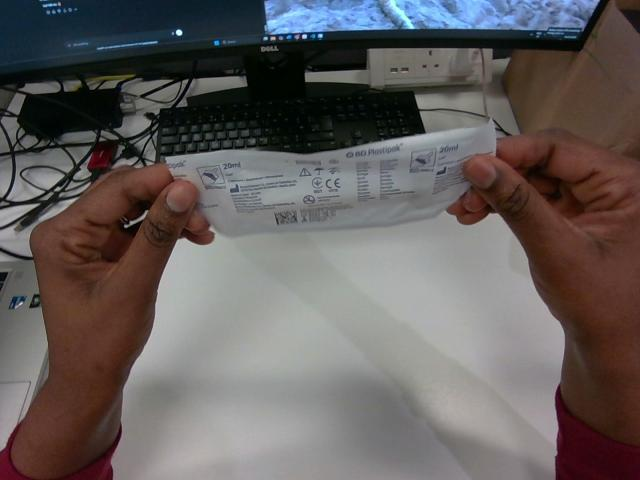syringe: (167, 121, 495, 235)
